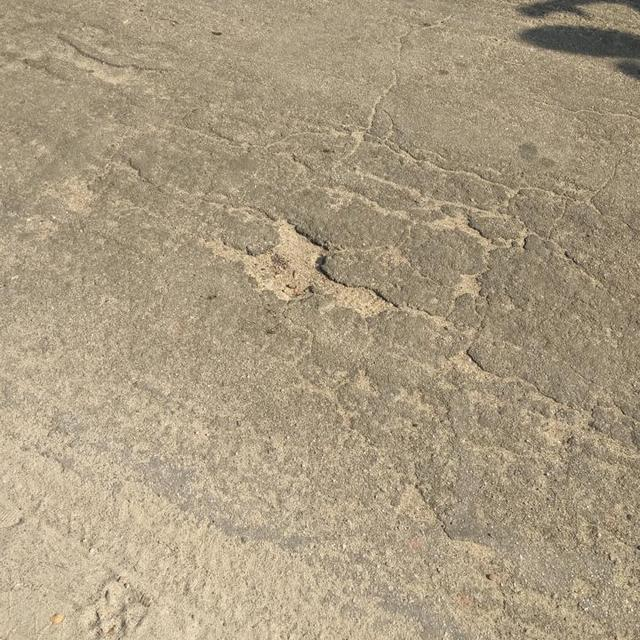Pothole: (202, 213, 394, 321)
